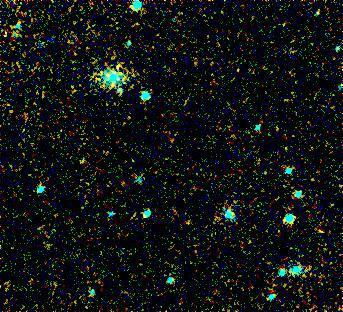star: (102, 50, 132, 80)
